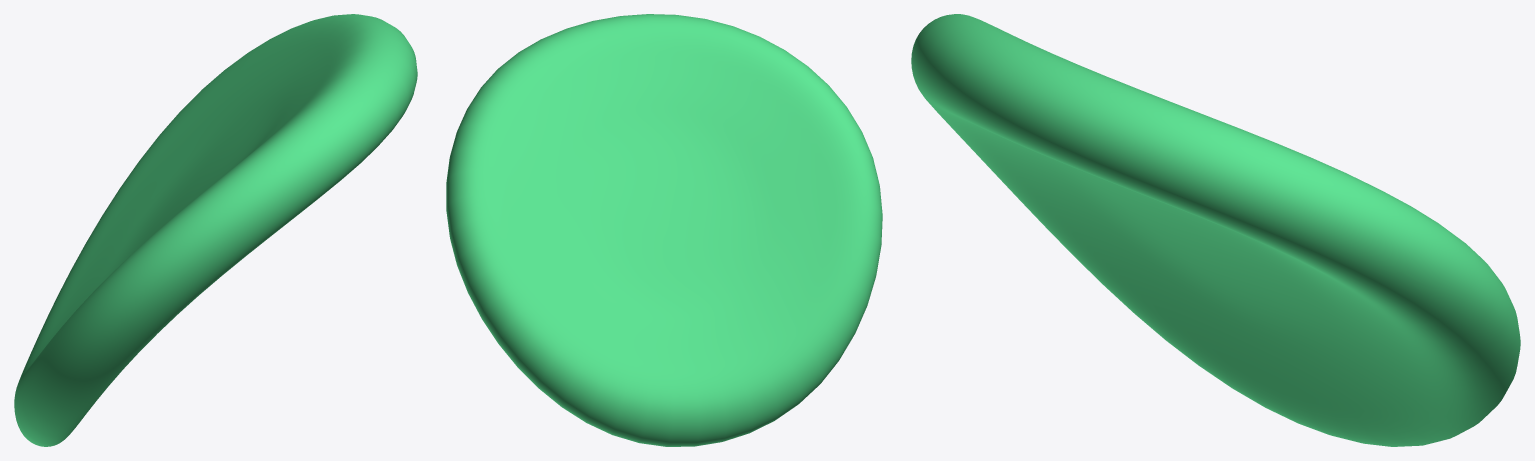
Rendered from blood_cell.obj.
3 renders of one model, left to right at view 1: azimuth 30°, elevation 25°; view 2: azimuth 150°, elevation 25°; view 3: azimuth 270°, elevation 25°, orthographic. The views are drawn at different scales.
Visible parts, largest first — view 1: NGon02; view 2: NGon02; view 3: NGon02.
Boxes of the visible parts, bbox=[...] form: NGon02: bbox=[14, 14, 417, 446]; NGon02: bbox=[446, 14, 882, 446]; NGon02: bbox=[911, 14, 1520, 446].
Size of the model in its own units: 9.56 by 8.7 by 9.8.
